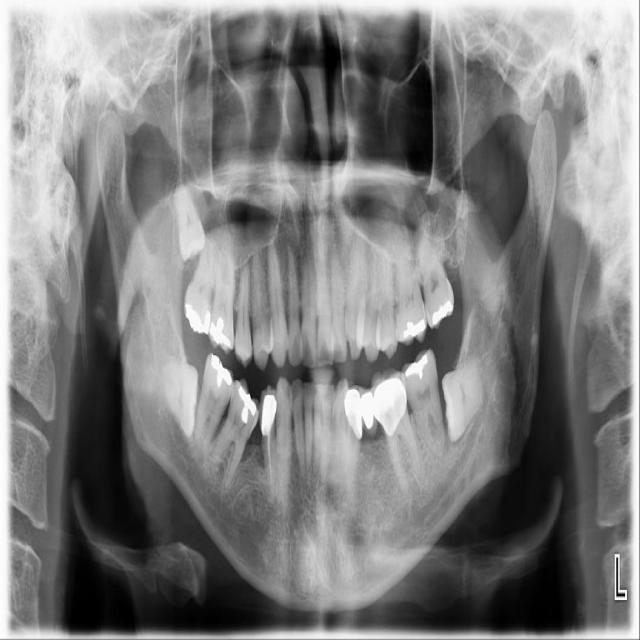Crown: (373, 376, 410, 436), (258, 384, 278, 437), (344, 389, 364, 439), (362, 390, 376, 426)
Filling: (235, 384, 258, 427), (183, 303, 210, 333), (207, 320, 234, 350), (209, 358, 233, 391), (429, 299, 454, 326), (406, 354, 429, 379), (403, 319, 424, 342)
Root Canal Treatment: (266, 434, 271, 492)
impacted tooth: (439, 357, 485, 439), (153, 353, 200, 431), (175, 181, 208, 260)
